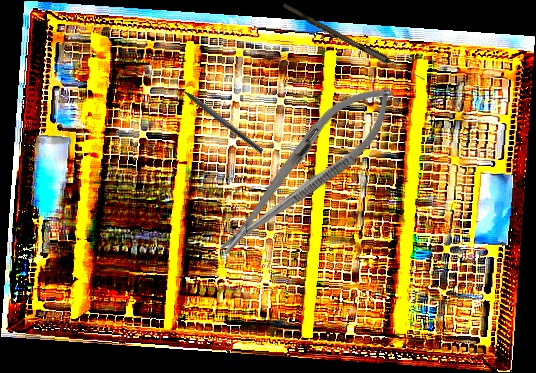Chopper: (169, 75, 269, 154)
Needle Holder: (201, 68, 410, 271)
Surgical Spoon: (280, 3, 428, 83)
